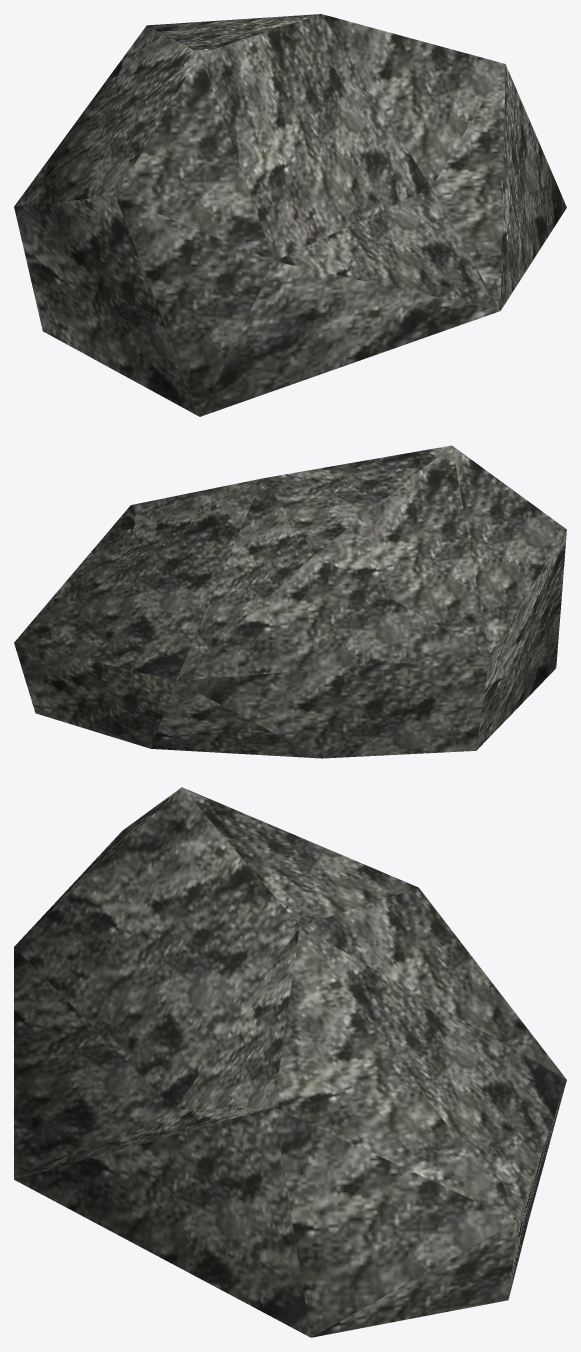
The model's file is geology-shoreline-boulder.glb.
3 views of the same model, one above another, from view 1: azimuth 30°, elevation 25°; view 2: azimuth 150°, elevation 25°; view 3: azimuth 270°, elevation 25° (orthographic). The views are drawn at different scales.
Visible parts, largest first — view 1: rock_shoreline_boulder_a; view 2: rock_shoreline_boulder_a; view 3: rock_shoreline_boulder_a.
Boxes of the visible parts, x1,y1,x2,y2 form: rock_shoreline_boulder_a: (14, 14, 566, 416); rock_shoreline_boulder_a: (14, 445, 566, 758); rock_shoreline_boulder_a: (14, 787, 566, 1337).
Bounding box in the file's own units: 3.61 × 1.92 × 2.95.
1 material, 1 textured.
